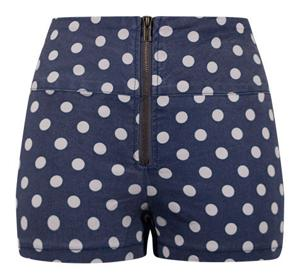C_shorts: (12, 8, 294, 267)
